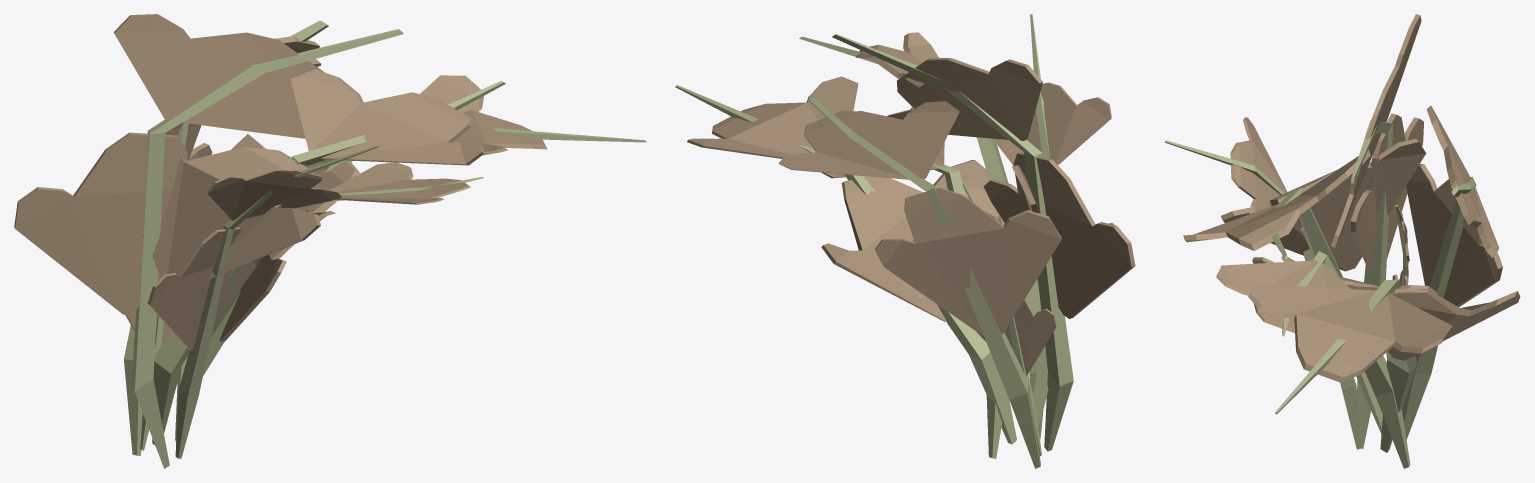
Rendered from Carrot_Dry_6.fbx.
3 renders of one model, left to right at view 1: azimuth 30°, elevation 25°; view 2: azimuth 150°, elevation 25°; view 3: azimuth 270°, elevation 25°, orthographic. The views are drawn at different scales.
Visible parts, largest first — view 1: 6_Dry_Carrot; view 2: 6_Dry_Carrot; view 3: 6_Dry_Carrot.
Boxes of the visible parts, bbox=[...] form: 6_Dry_Carrot: bbox=[14, 14, 646, 468]; 6_Dry_Carrot: bbox=[675, 14, 1135, 468]; 6_Dry_Carrot: bbox=[1164, 14, 1520, 468].
Bounding box in the file's own units: 30.62 × 22.67 × 16.86.
